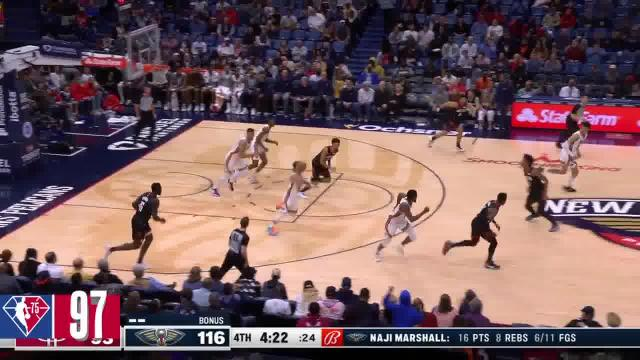ball-handler: (266, 160, 312, 239)
player: (92, 180, 164, 268), (441, 188, 508, 273), (378, 183, 428, 263), (425, 85, 478, 156), (543, 122, 593, 194), (518, 152, 562, 233), (213, 126, 257, 198), (304, 135, 342, 198), (250, 114, 276, 180)
